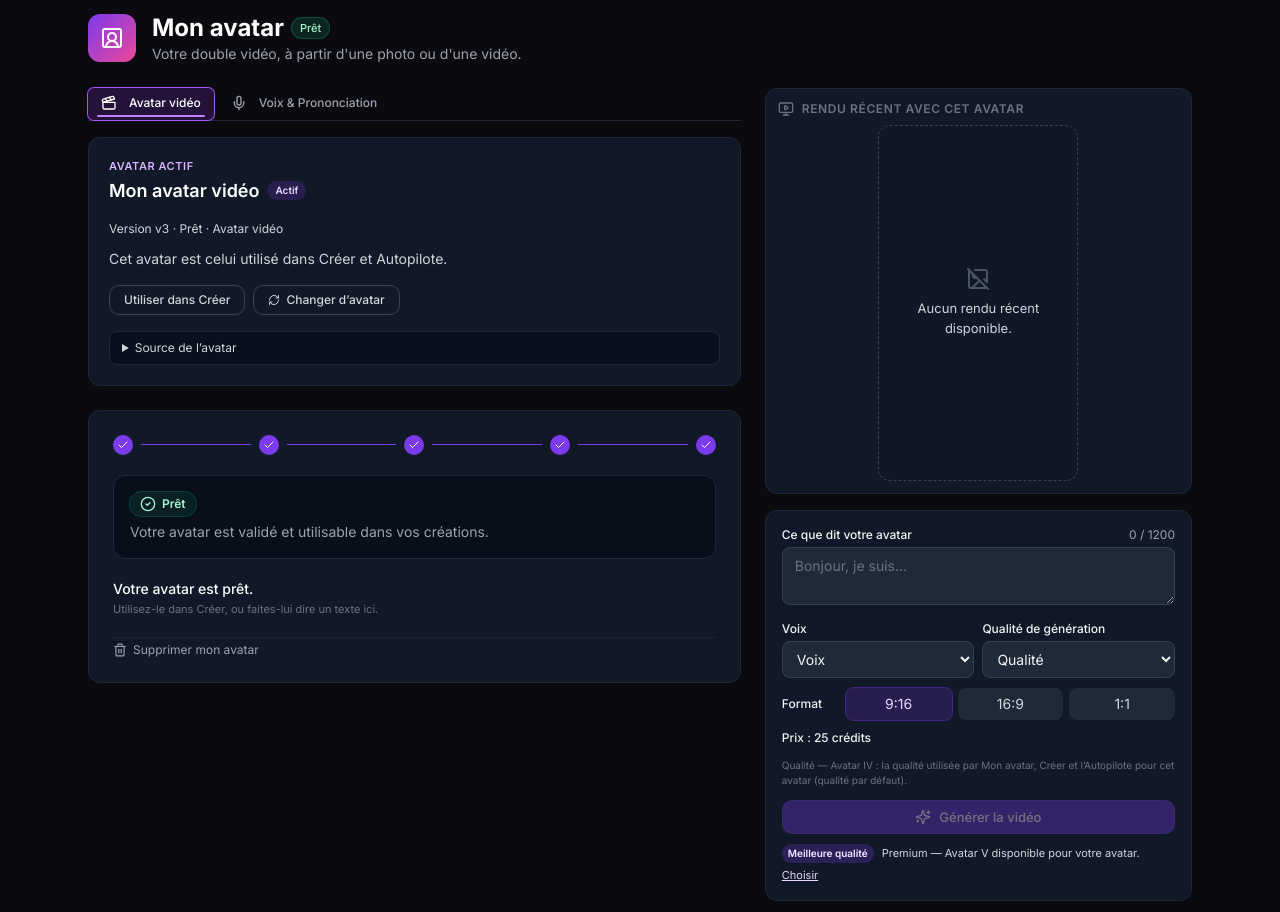
Test: #562 bis — la qualité choisie : prix, moteur et coût fournisseur recalculés, choix enregistré › ⚠️ le choix est ENREGISTRÉ pour cet avatar (Créer et l’Autopilote l’utilisent) et rechargé
This screenshot has width=1280, height=912.
Expected: the text "(qualité par défaut)" is shown, [782, 759, 1174, 786]
Select "Standard" in the dropdown labelled "Qualité de génération" at (1079, 659), box [982, 640, 1175, 678]
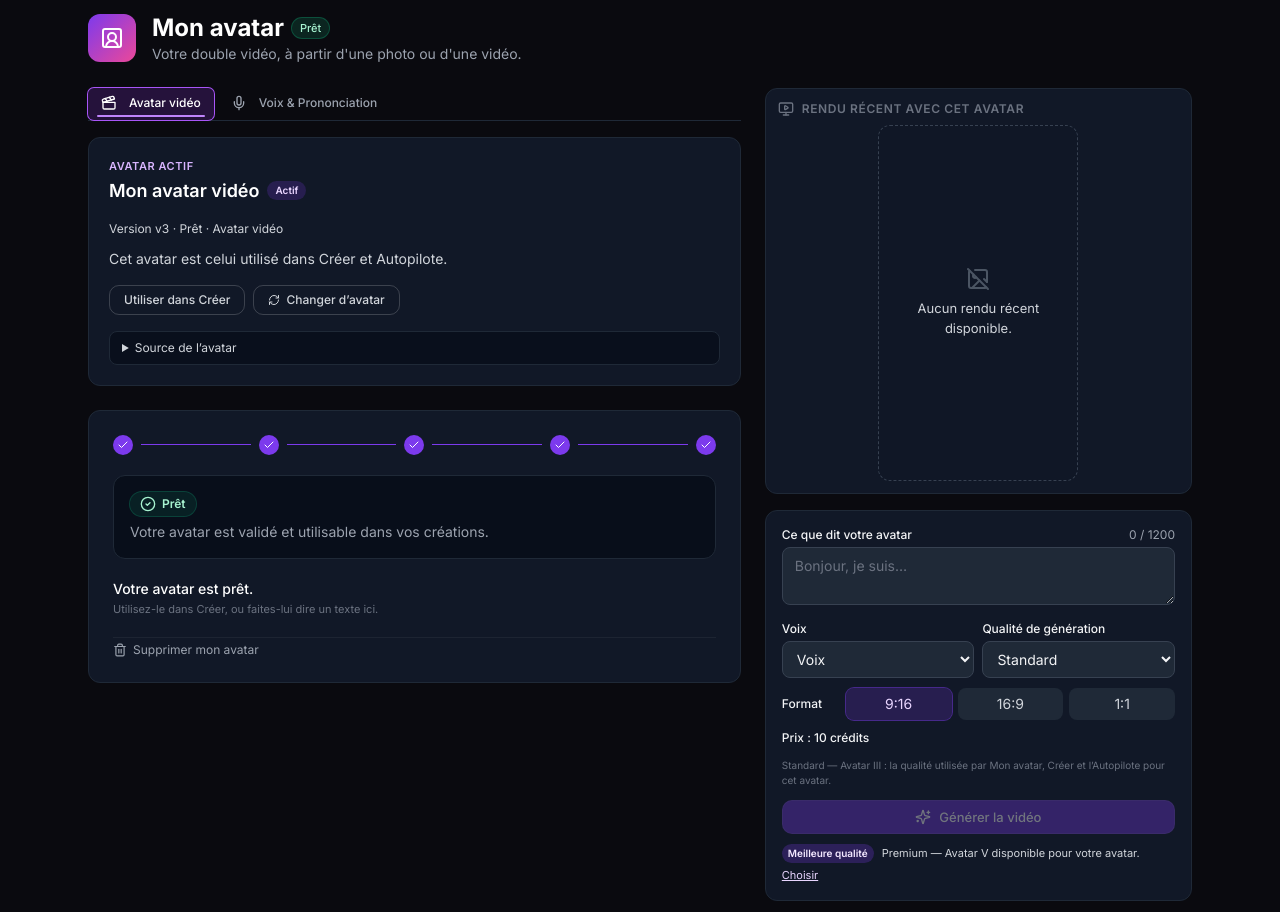
Result: the text "Standard — Avatar III : la qualité utilisée par Mon avatar, Créer et l’Autopilote pour cet avatar." is shown at [782, 759, 1165, 786]
